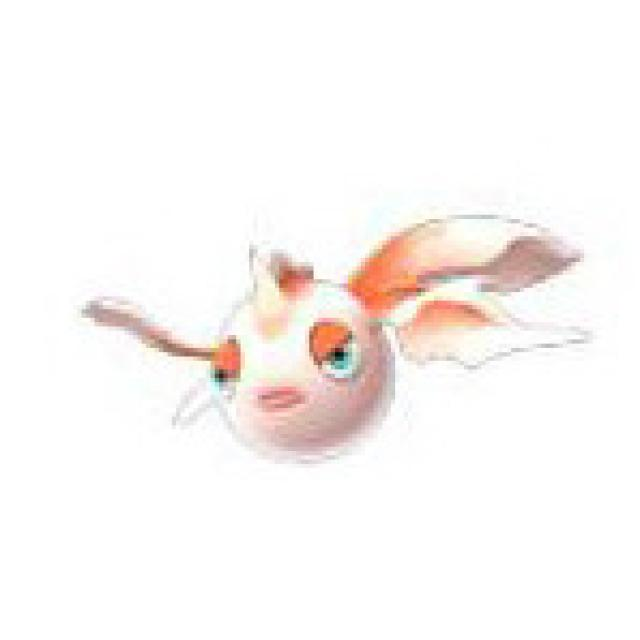Goldeen: (71, 199, 640, 476)
